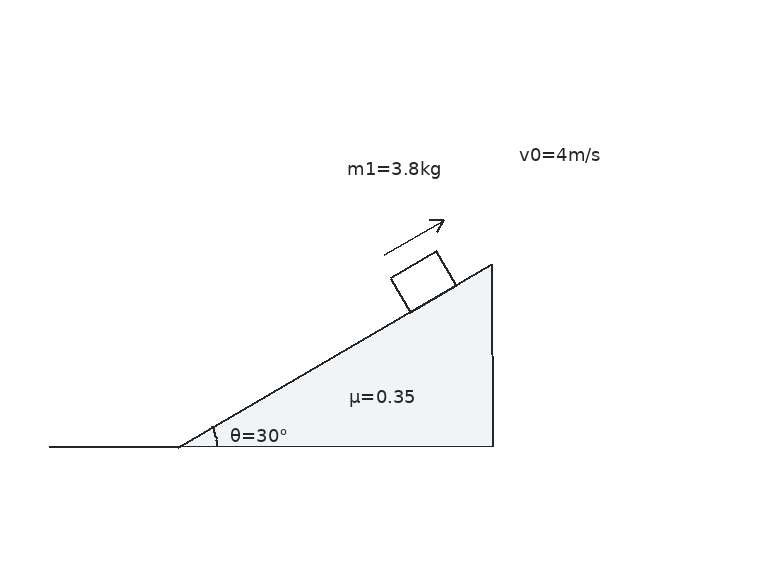block: (388, 249, 458, 314)
ramp: (175, 262, 494, 448)
